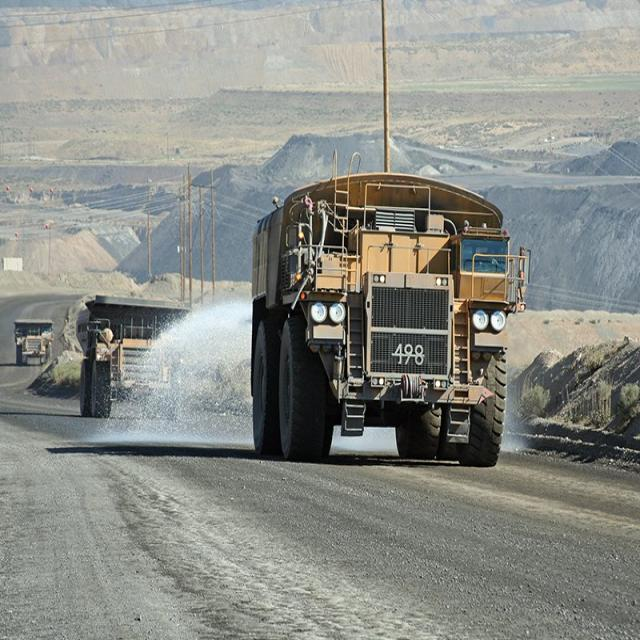dump_truck: (233, 167, 521, 464), (67, 275, 191, 420), (8, 305, 57, 365)
